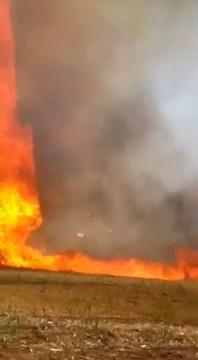fire: (1, 47, 38, 252), (35, 252, 183, 278)
